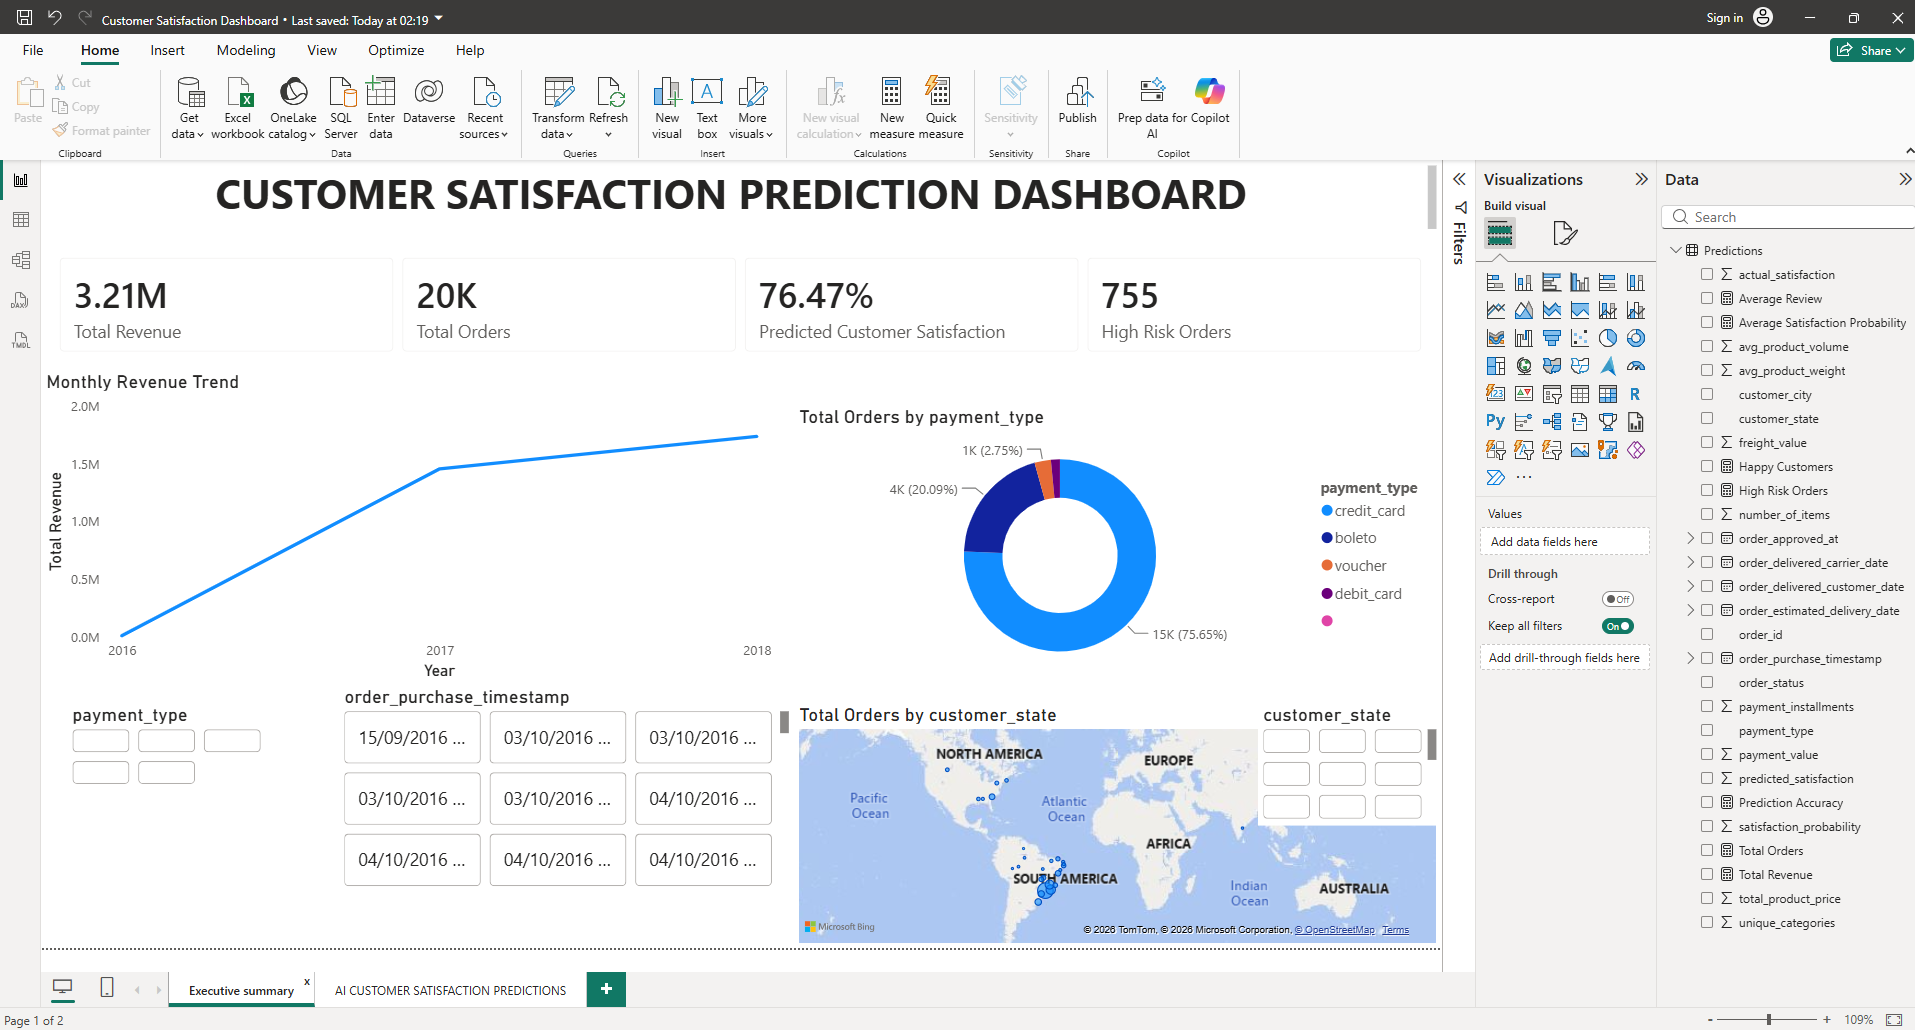

The dashboard page shown, as its layout file describes it:
{"tool":"powerbi","page":{"name":"Executive summary","canvas":[1280,720],"ordinal":0},"visuals":[{"type":"cardVisual","fields":{"Data":["Predictions.Total Revenue","Predictions.Total Orders","Predictions.Average Review","Predictions.High Risk Orders"]},"box":[0,72,1280,120],"z":0},{"type":"textbox","box":[0,0,1280,72],"z":1000},{"type":"lineChart","title":"Monthly Revenue Trend","fields":{"Y":["Predictions.Total Revenue"],"Category":["Predictions.order_purchase_timestamp.Variation.Date Hierarchy.Year","Predictions.order_purchase_timestamp.Variation.Date Hierarchy.Quarter","Predictions.order_purchase_timestamp.Variation.Date Hierarchy.Month","Predictions.order_purchase_timestamp.Variation.Date Hierarchy.Day"]},"box":[0,192,672,288],"z":2000},{"type":"donutChart","fields":{"Category":["Predictions.payment_type"],"Y":["Predictions.Total Orders"]},"box":[688,224,592,256],"z":3000},{"type":"map","fields":{"Size":["Predictions.Total Orders"],"Category":["Predictions.customer_state"]},"box":[688,496,592,224],"z":4000},{"type":"advancedSlicerVisual","fields":{"Values":["Predictions.customer_state"]},"box":[1112,496,168,112],"z":5000},{"type":"advancedSlicerVisual","fields":{"Values":["Predictions.payment_type"]},"box":[24,496,184,80],"z":6000},{"type":"advancedSlicerVisual","fields":{"Values":["Predictions.order_purchase_timestamp"]},"box":[272,480,416,192],"z":7000}]}

Visuals, with their boxes on the page's 1280x720 design canvas (x1, y1, x2, y2). These are canvas units, not pixel positions in the 1915x1030 screenshot, which may show the page scaled, cropped or inside an application window:
cardVisual - Predictions.Total Revenue x Predictions.Total Orders: select_region(0, 72, 1280, 192)
textbox: select_region(0, 0, 1280, 72)
"Monthly Revenue Trend" lineChart: select_region(0, 192, 672, 480)
donutChart - Predictions.payment_type x Predictions.Total Orders: select_region(688, 224, 1280, 480)
map - Predictions.Total Orders x Predictions.customer_state: select_region(688, 496, 1280, 720)
advancedSlicerVisual - Predictions.customer_state: select_region(1112, 496, 1280, 608)
advancedSlicerVisual - Predictions.payment_type: select_region(24, 496, 208, 576)
advancedSlicerVisual - Predictions.order_purchase_timestamp: select_region(272, 480, 688, 672)
